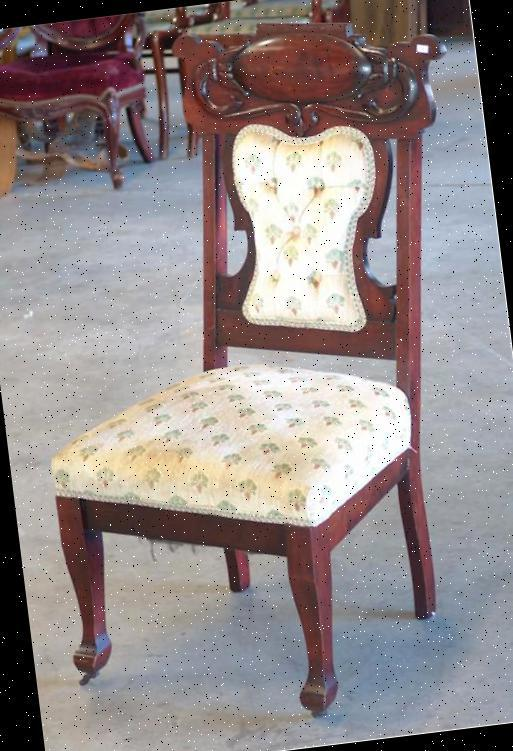Silla: (0, 21, 512, 740)
